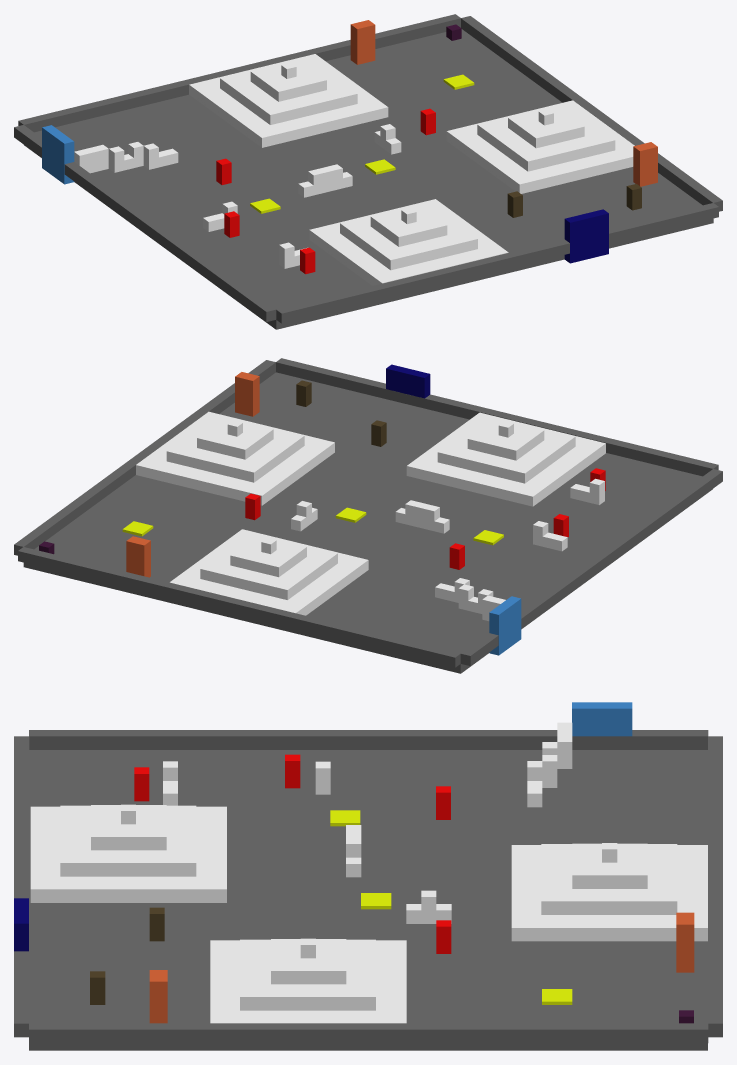
Rendered from level1_b03_45.FBX.
3 renders of one model, top to bottom at view 1: azimuth 30°, elevation 25°; view 2: azimuth 150°, elevation 25°; view 3: azimuth 270°, elevation 25°, orthographic. The views are drawn at different scales.
Visible parts, largest first — view 1: Box002, Box003, Box011, Box007, Box012, Box008, Box004, Box016, Box010, Box005, Box014, Box015 (+7 smaller); view 2: Box002, Box007, Box011, Box003, Box012, Box008, Box004, Box010, Box005, Box014, Box015, Box023 (+7 smaller); view 3: Box002, Box007, Box003, Box011, Box008, Box012, Box004, Box005, Box010, Box014, Box015, Decoration002 (+11 smaller).
Boxes of the visible parts, box(x1,y1,x2,y2) form: Box002: box(14, 14, 722, 329); Box003: box(189, 54, 388, 147); Box011: box(446, 100, 634, 193); Box007: box(309, 199, 508, 285); Box012: box(477, 103, 615, 171); Box008: box(340, 202, 477, 270); Box004: box(220, 57, 357, 124); Box016: box(564, 209, 608, 263); Box010: box(370, 205, 447, 246); Box005: box(250, 59, 326, 101); Box014: box(508, 106, 584, 148); Box015: box(42, 125, 74, 184); Box002: box(14, 358, 722, 673); Box007: box(406, 412, 605, 506); Box011: box(136, 411, 334, 505); Box003: box(170, 529, 368, 615); Box012: box(166, 414, 304, 482); Box008: box(437, 415, 575, 483); Box004: box(200, 532, 337, 599); Box010: box(467, 418, 544, 460); Box005: box(230, 535, 306, 577); Box014: box(197, 417, 273, 459); Box015: box(489, 596, 521, 655); Box023: box(395, 500, 449, 533); Box002: box(14, 730, 722, 1050); Box007: box(30, 806, 226, 902); Box003: box(511, 845, 707, 941); Box011: box(210, 940, 406, 1023); Box008: box(60, 805, 196, 876); Box012: box(240, 939, 375, 1010); Box004: box(541, 844, 677, 914); Box005: box(572, 843, 647, 888); Box010: box(91, 805, 166, 850); Box014: box(271, 939, 346, 984); Box015: box(572, 702, 632, 736); Decoration002: box(676, 912, 694, 972).
Bounding box in the file's own units: 1850 × 194 × 1849.
